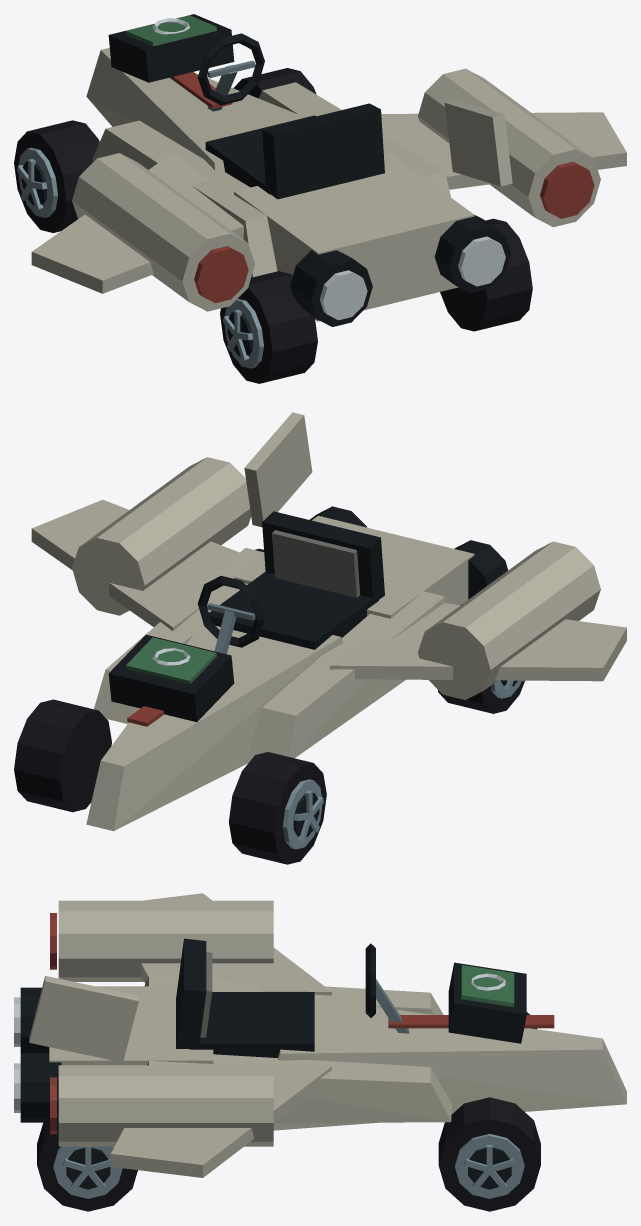
File: kart.glb
The picture shows the model from 3 angles, top to bottom: view 1: azimuth 30°, elevation 25°; view 2: azimuth 150°, elevation 25°; view 3: azimuth 270°, elevation 25°; orthographic projection. The views are drawn at different scales.
Parts seen in each view (by area): view 1: identity-starfighter-starfighter-flight-planform, identity-starfighter-motif-engine-pods, identity-starfighter-driver-cockpit, wheel-rear-left, wheel-front-left, identity-starfighter-motif-scanner, wheel-rear-right, wheel-front-right; view 2: identity-starfighter-starfighter-flight-planform, identity-starfighter-motif-engine-pods, identity-starfighter-driver-cockpit, wheel-front-left, wheel-front-right, identity-starfighter-motif-scanner, wheel-rear-left; view 3: identity-starfighter-starfighter-flight-planform, identity-starfighter-motif-engine-pods, identity-starfighter-driver-cockpit, wheel-front-right, identity-starfighter-motif-scanner, wheel-rear-right.
Part boxes in pixels (x1=…): identity-starfighter-starfighter-flight-planform: x1=31, y1=48, x2=626, y2=326; identity-starfighter-motif-engine-pods: x1=72, y1=68, x2=600, y2=311; identity-starfighter-driver-cockpit: x1=197, y1=33, x2=384, y2=199; wheel-rear-left: x1=220, y1=271, x2=317, y2=383; wheel-front-left: x1=14, y1=120, x2=99, y2=232; identity-starfighter-motif-scanner: x1=108, y1=14, x2=234, y2=82; wheel-rear-right: x1=440, y1=218, x2=532, y2=331; wheel-front-right: x1=233, y1=68, x2=316, y2=98; identity-starfighter-starfighter-flight-planform: x1=31, y1=412, x2=626, y2=831; identity-starfighter-motif-engine-pods: x1=72, y1=457, x2=600, y2=699; identity-starfighter-driver-cockpit: x1=197, y1=511, x2=384, y2=654; wheel-front-left: x1=229, y1=752, x2=326, y2=864; wheel-front-right: x1=14, y1=699, x2=111, y2=812; identity-starfighter-motif-scanner: x1=108, y1=634, x2=234, y2=722; wheel-rear-left: x1=438, y1=604, x2=524, y2=713; identity-starfighter-starfighter-flight-planform: x1=14, y1=893, x2=626, y2=1177; identity-starfighter-motif-engine-pods: x1=50, y1=900, x2=273, y2=1146; identity-starfighter-driver-cockpit: x1=176, y1=938, x2=409, y2=1057; wheel-front-right: x1=438, y1=1097, x2=540, y2=1211; identity-starfighter-motif-scanner: x1=448, y1=962, x2=526, y2=1043; wheel-rear-right: x1=37, y1=1113, x2=137, y2=1211.
Size of the model in its own units: 3.14 by 1.18 by 2.99.
